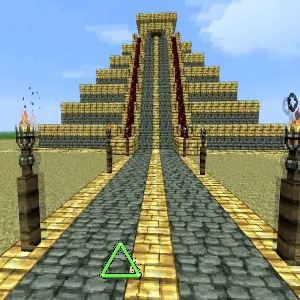triangle: (97, 239, 142, 280)
